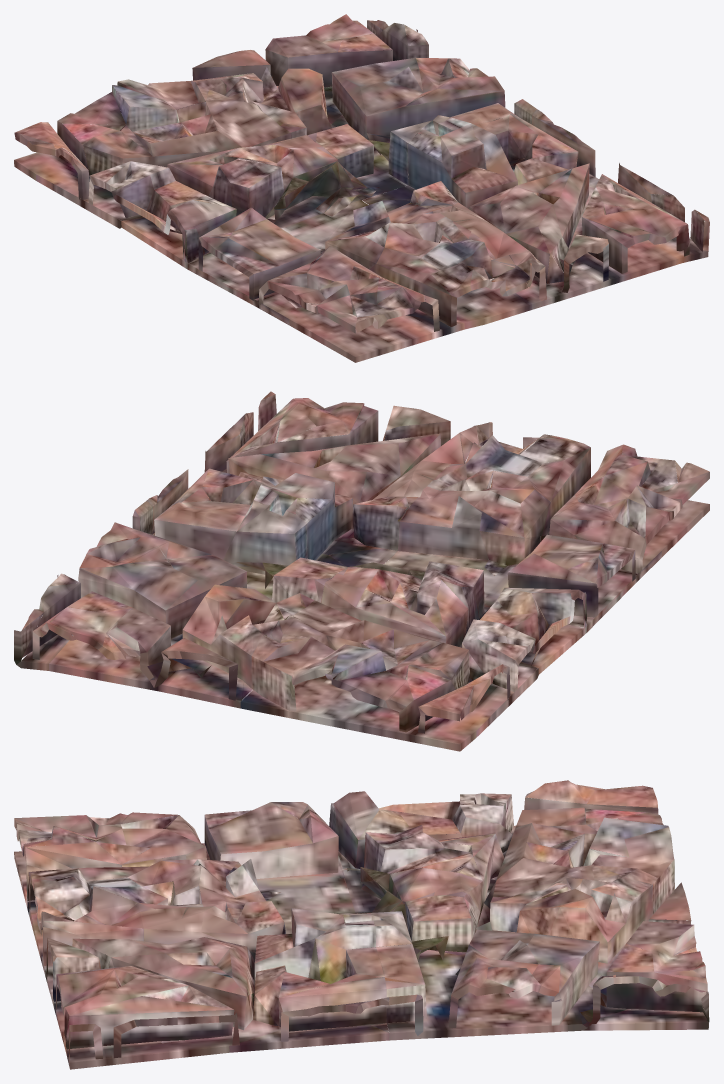
The picture shows the model from 3 angles, top to bottom: view 1: azimuth 30°, elevation 25°; view 2: azimuth 150°, elevation 25°; view 3: azimuth 270°, elevation 25°; orthographic projection. The views are drawn at different scales.
Parts seen in each view (by area): view 1: Mesh_0; view 2: Mesh_0; view 3: Mesh_0.
Part boxes in pixels (x1=…): Mesh_0: x1=14, y1=14, x2=709, y2=362; Mesh_0: x1=14, y1=391, x2=709, y2=751; Mesh_0: x1=14, y1=780, x2=709, y2=1069.
Bounding box in the file's own units: 267 × 41.9 × 330.
Materials: 2 (2 with a texture image).
